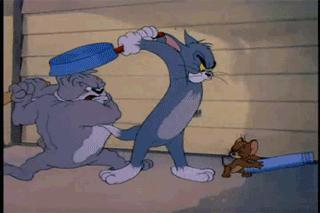tom: (98, 24, 220, 184)
